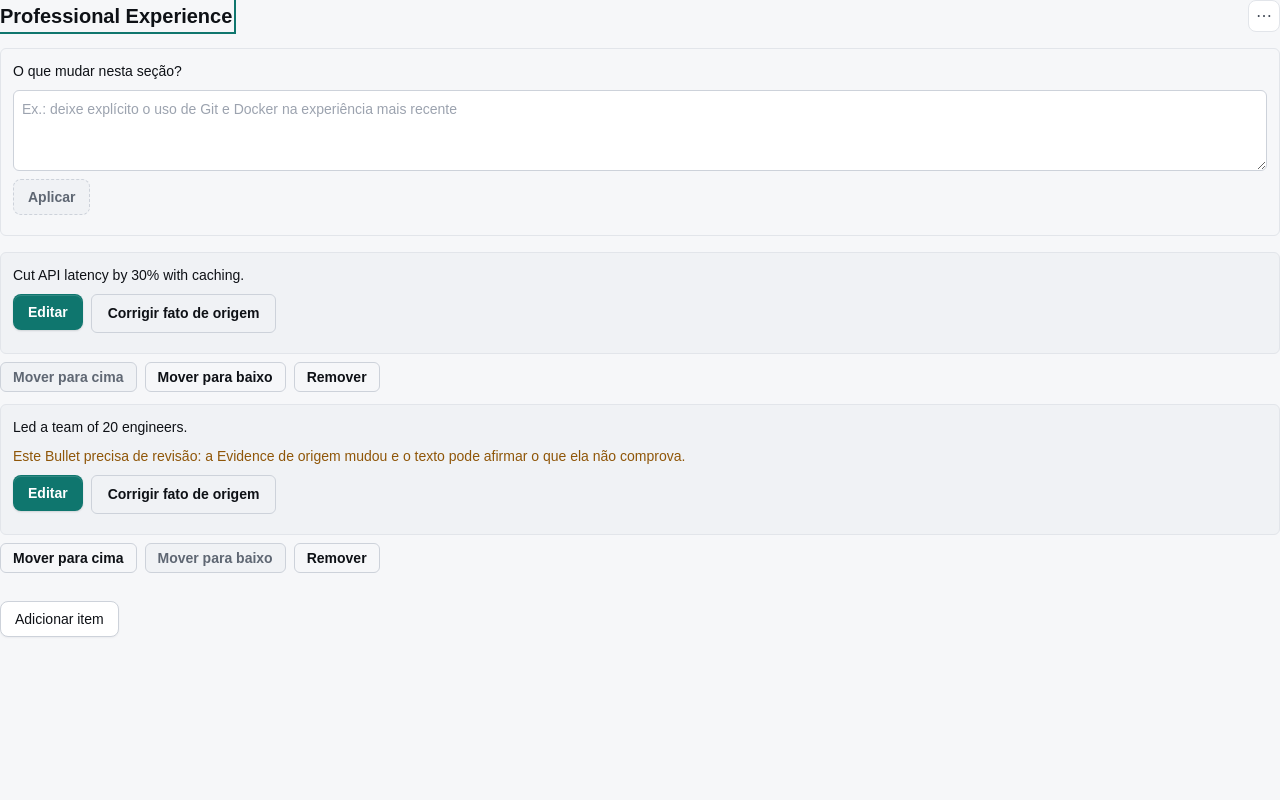
Test: SectionPanel › should keep structure controls inside the options menu
The image size is (1280, 800).
Expected: the button "Mover Section para cima" is not shown
Click the button named "Opções da seção".
click(1264, 16)  # box [1248,0,1279,32]
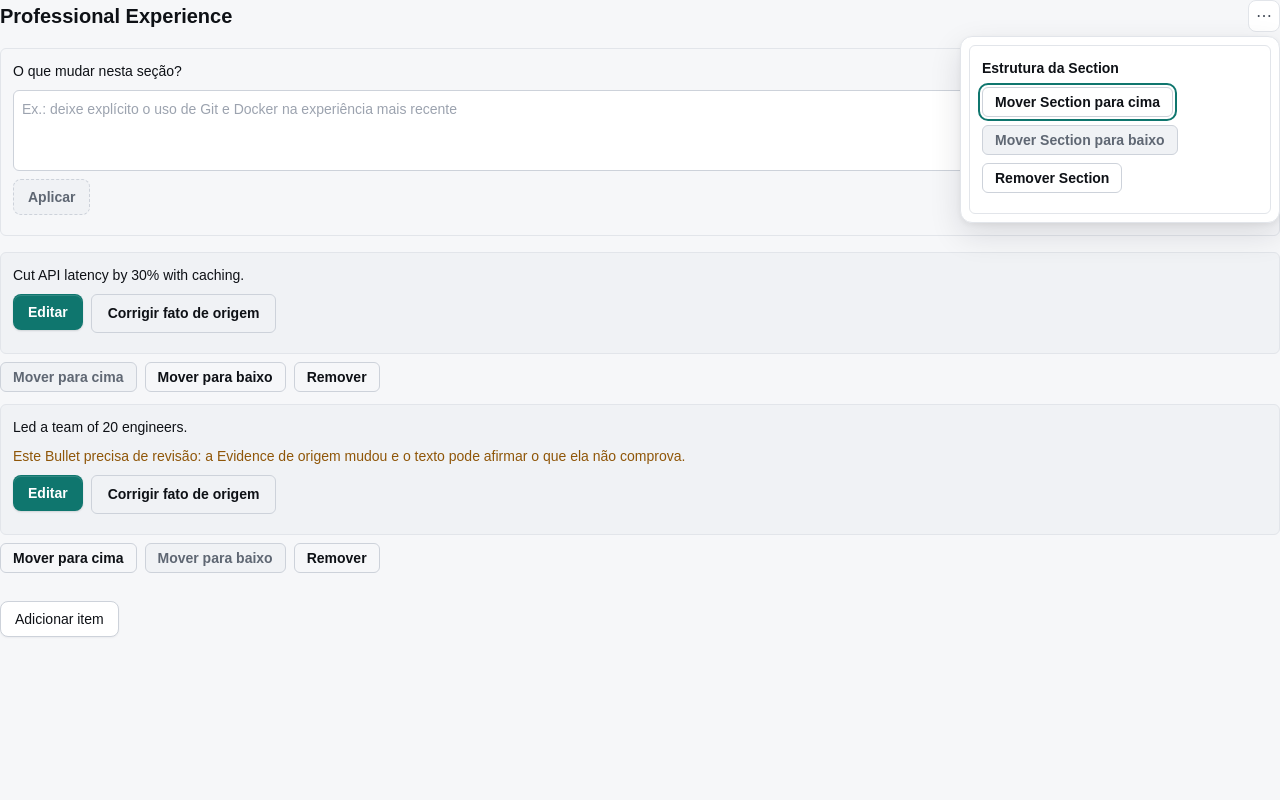
Expected: the button with aria-label "Mover para cima o Bullet 1:" is shown, [0,362,136,392]
Expected: the button "Mover Section para cima" is shown, [982,87,1173,117]
Expected: the button "Remover Section" is shown, [982,163,1122,193]
